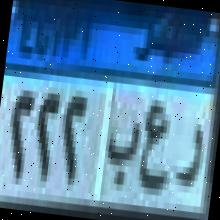2: (52, 90, 90, 186), (29, 84, 63, 186), (4, 84, 38, 185)
ain: (133, 97, 176, 199)
baa: (101, 114, 141, 194)
raa: (172, 113, 207, 194)
